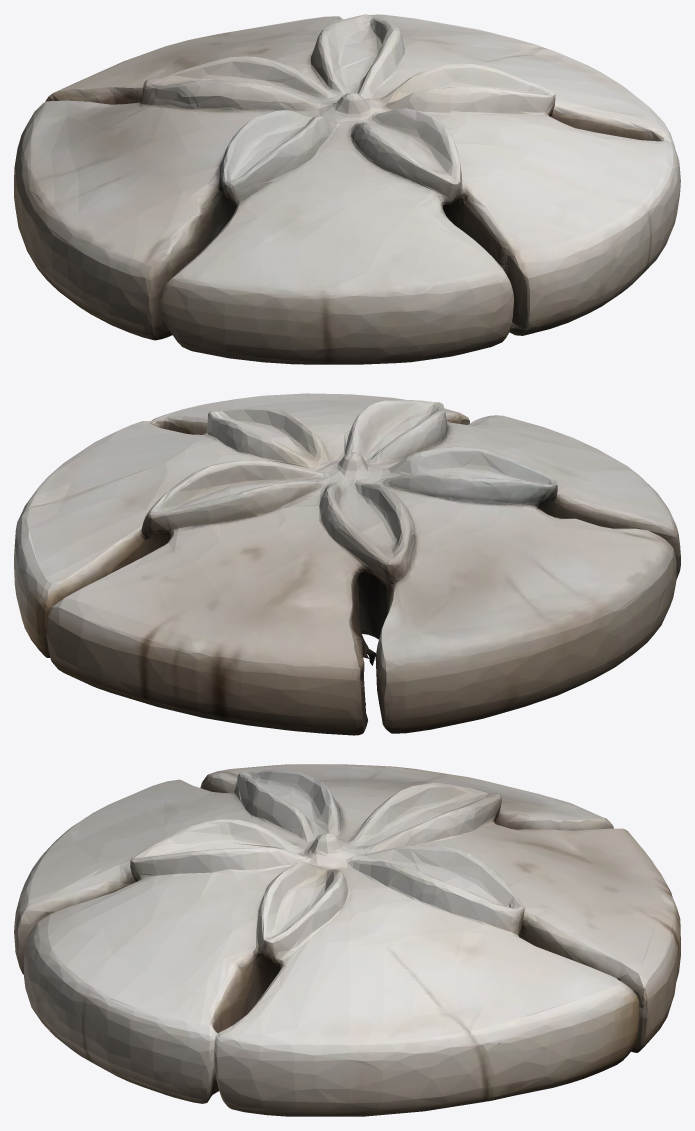
The picture shows the model from 3 angles, top to bottom: view 1: azimuth 30°, elevation 25°; view 2: azimuth 150°, elevation 25°; view 3: azimuth 270°, elevation 25°; orthographic projection. The views are drawn at different scales.
Parts seen in each view (by area): view 1: world; view 2: world; view 3: world.
Part boxes in pixels (x1,y1,x2,y2): world: (14, 14, 680, 364); world: (14, 393, 680, 735); world: (14, 764, 680, 1116).
Bounding box in the file's own units: 0.9978 × 0.2641 × 0.9802.
1 material, 1 textured.
